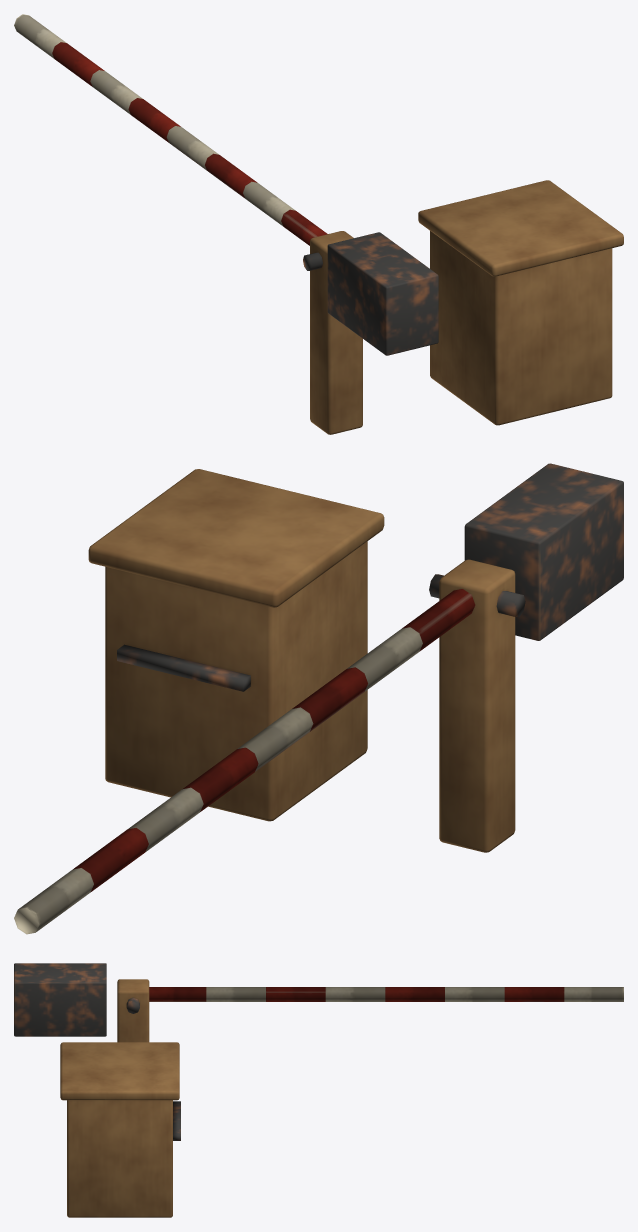
Rendered from toll_barrier.obj.
The picture shows the model from 3 angles, top to bottom: view 1: azimuth 30°, elevation 25°; view 2: azimuth 150°, elevation 25°; view 3: azimuth 270°, elevation 25°; orthographic projection. The views are drawn at different scales.
Visible parts, largest first — view 1: part0, part1, part3, part2; view 2: part0, part1, part3, part2; view 3: part0, part1, part3, part2.
Boxes of the visible parts, box(x1,y1,x2,y2) form: part0: box(310, 180, 623, 434); part1: box(303, 232, 438, 355); part3: box(14, 14, 295, 226); part2: box(52, 42, 327, 245); part0: box(88, 469, 515, 852); part1: box(117, 463, 623, 691); part3: box(14, 627, 422, 934); part2: box(73, 589, 475, 891); part0: box(60, 979, 179, 1217); part1: box(14, 963, 180, 1140); part3: box(206, 987, 623, 1001); part2: box(149, 987, 564, 1001).
Bounding box in the file's own units: 1.85 × 1.3 × 4.6.
